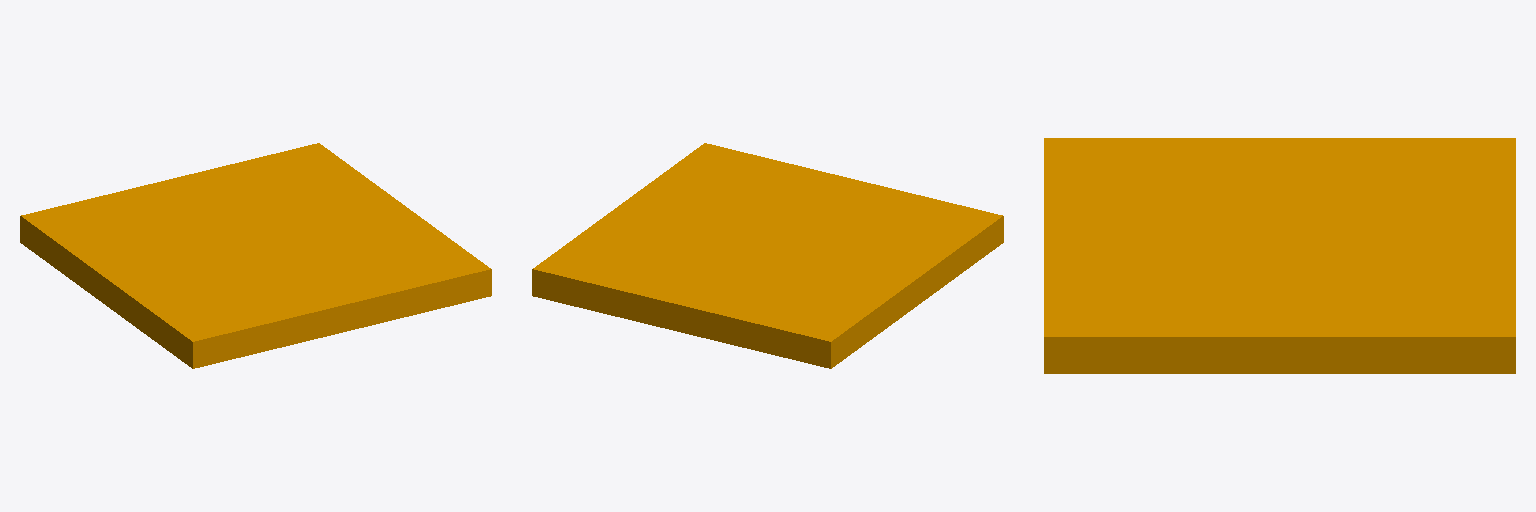
The robot description file, URDF, robot "ar_marker":
<?xml version="1.0"?>
<robot name="ar_marker">
  <!--link name="world" />

  <joint name="joint_w" type="fixed">
    <parent link="world" />
    <child link="ar_marker_link" />
  </joint-->

  <link name="ar_marker_link_02">
    <visual>
      <origin xyz="0 0 0" rpy="0 0 0" />
      <geometry>
        <mesh filename="package://ar_marker_urdf/meshes/ar_marker_thin_id02/ar_marker_thin_id02.dae" /><!-- scale="0 0 0"/> -->
      </geometry>
    </visual>
    <collision>
      <geometry>
        <!--mesh filename="package://ar_marker_urdf/meshes/ar_marker_thin_id01/ar_marker_thin_id01.dae" /--><!-- scale="0 0 0"/> -->
        <box size="0.23 0.23 0.020"/>
      </geometry>
    </collision>
  <inertial>
    <mass value="0.1"/>
    <inertia ixx="1" ixy="0" ixz="0" iyy="1" iyz="0" izz="1"/>
  </inertial>
  </link>
</robot>

--- Render facts (derived) ---
3 views of the same robot in one strip: view 1: azimuth 30°, elevation 25°; view 2: azimuth 150°, elevation 25°; view 3: azimuth 270°, elevation 25° (orthographic).
Robot: ar_marker — 1 links, 0 joints (none); root link ar_marker_link_02; default pose: every joint at zero.
Links seen in each view (by area): view 1: ar_marker_link_02; view 2: ar_marker_link_02; view 3: ar_marker_link_02.
Boxes of the visible links, <box> form: ar_marker_link_02: <box>20,143,491,368</box>; ar_marker_link_02: <box>532,143,1003,368</box>; ar_marker_link_02: <box>1044,138,1515,373</box>.
Size in the robot's own frame: 0.2299 by 0.2299 by 0.02 metres.
Meshes: 1 distinct files referenced, 1 mesh visuals loaded (1 Collada DAE).